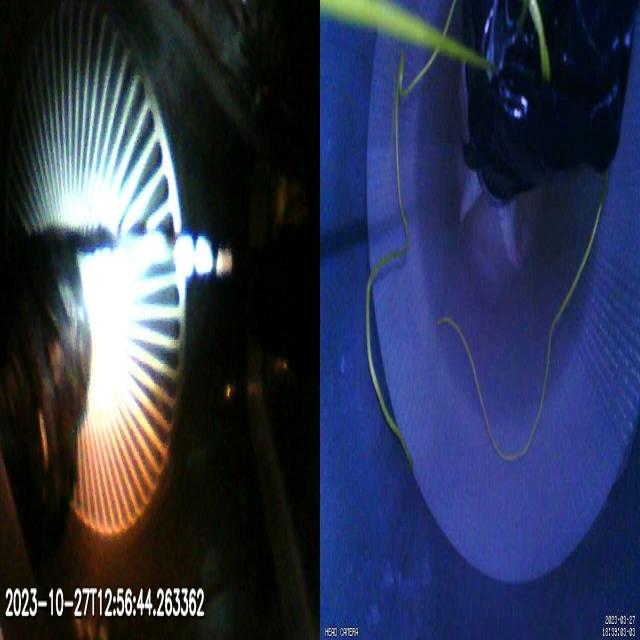white-dots: (174, 236, 233, 282)
